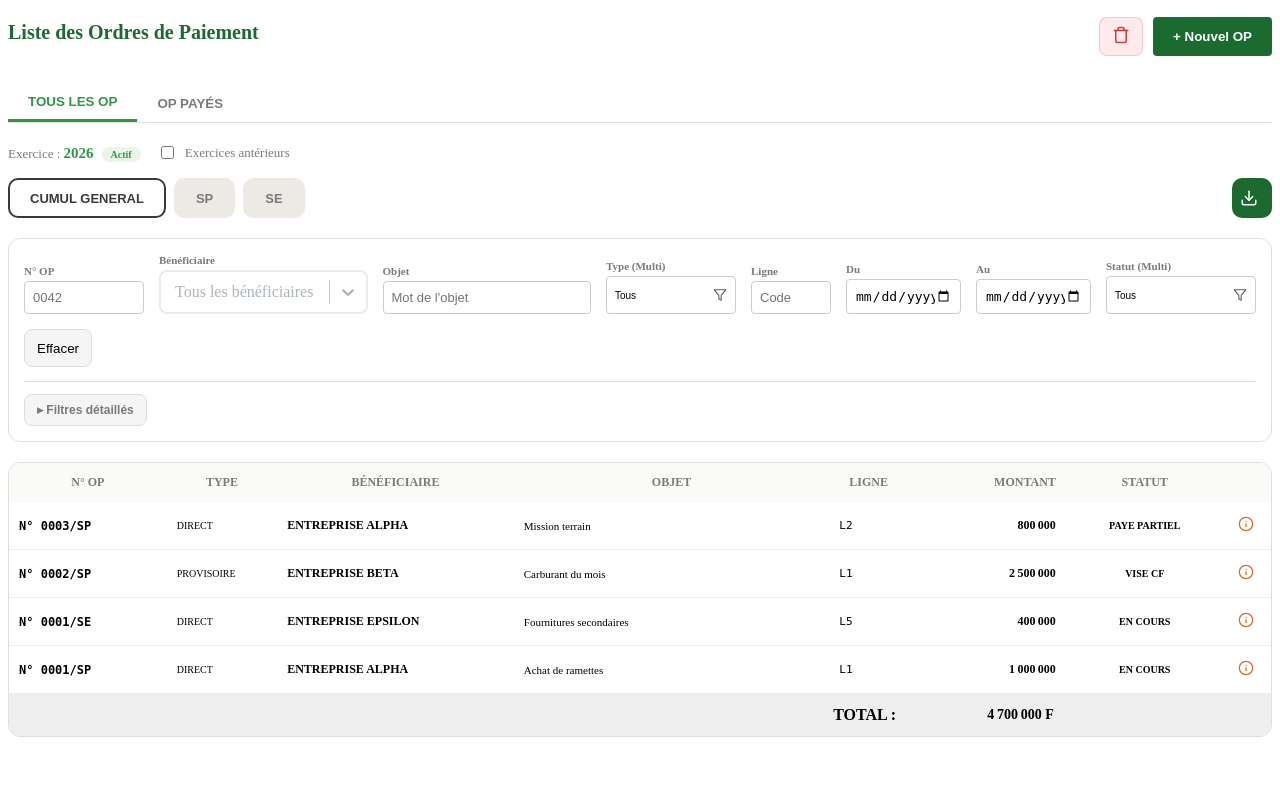
it: Liste OP — la corbeille › restaurer réclame le mot de passe administrateur, et n'écrit rien avant
The width and height of the screenshot is (1280, 800).
Click the button titled "Corbeille (OP supprimés)" at coordinates (1121, 36), box x1=1099 y1=17 x2=1143 y2=56
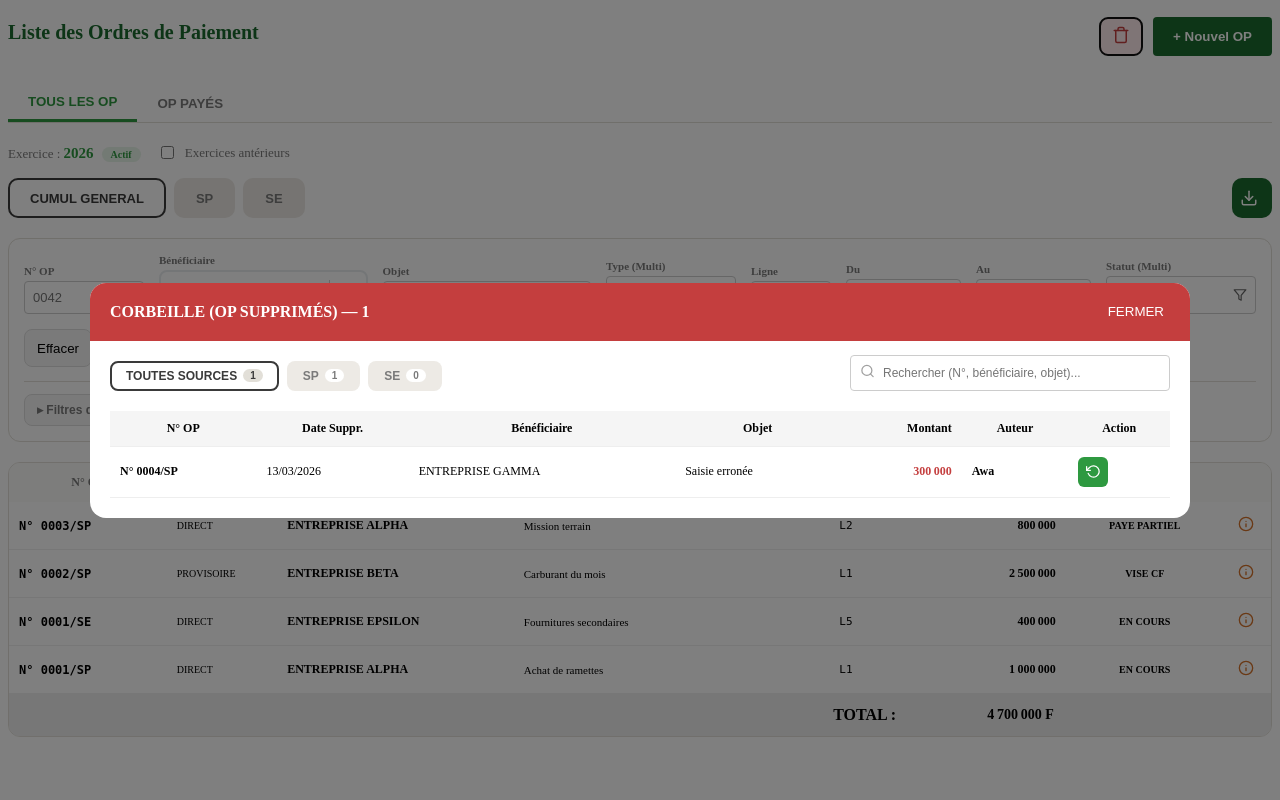
Click the button titled "Restaurer l'OP" at coordinates (1093, 472), box x1=1078 y1=456 x2=1108 y2=486
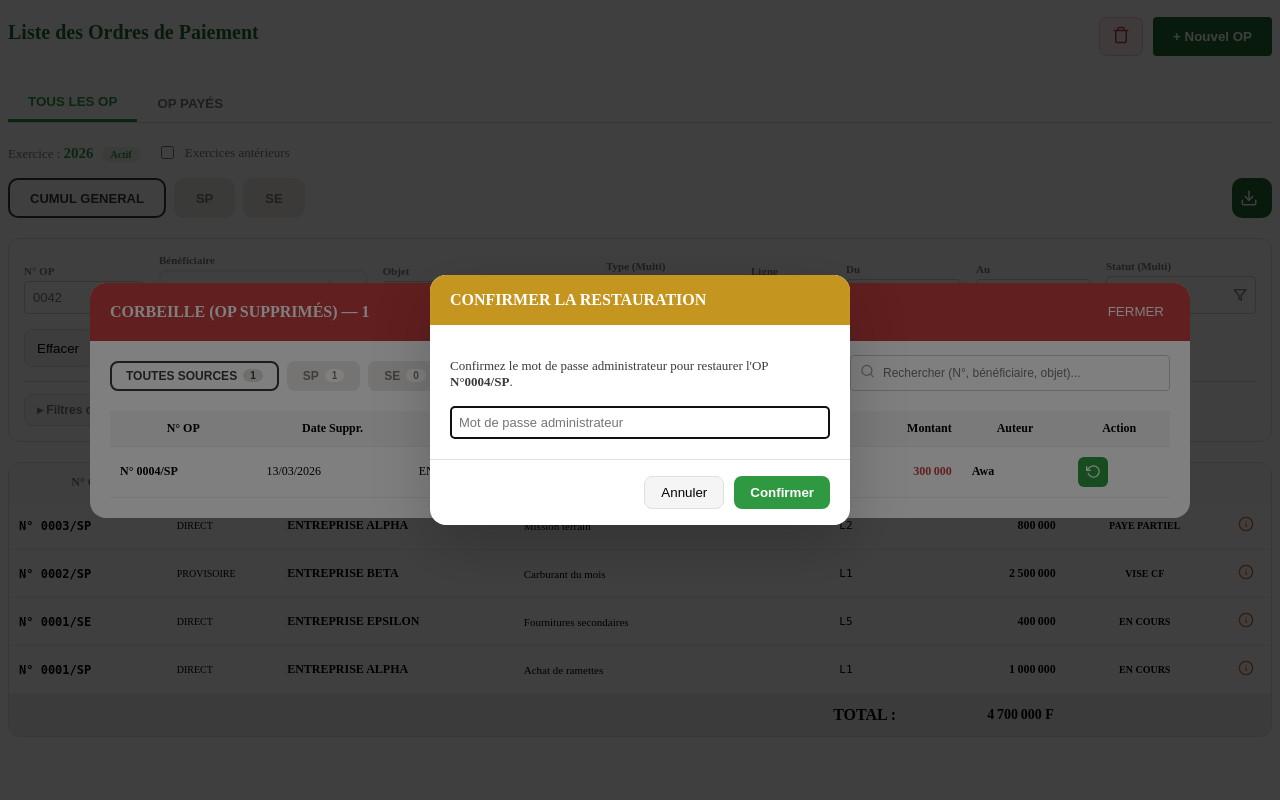
Check: the text "CONFIRMER LA RESTAURATION" is shown, box x1=450 y1=291 x2=706 y2=308
